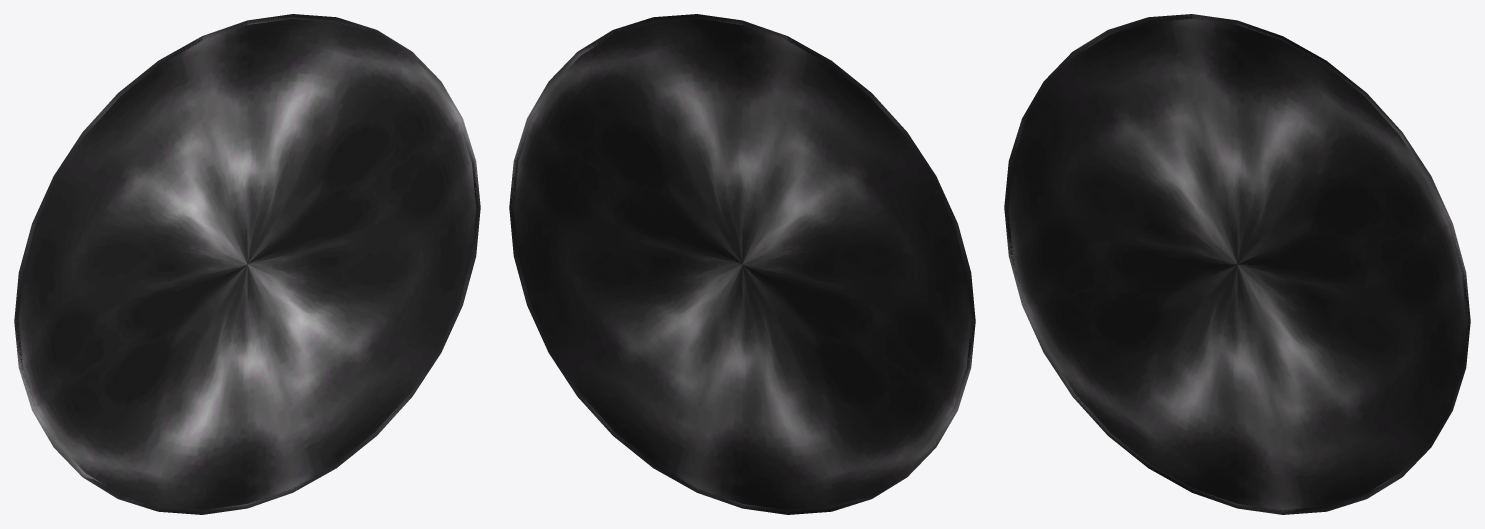
Rendered from fx_cutscene_hard_05_prefab.fbx.
3 views of the same model, side by side, from view 1: azimuth 30°, elevation 25°; view 2: azimuth 150°, elevation 25°; view 3: azimuth 330°, elevation 25° (orthographic).
Visible parts, largest first — view 1: uv2; view 2: uv2; view 3: uv2.
Boxes of the visible parts, x1,y1,x2,y2 form: uv2: (14, 14, 480, 514); uv2: (509, 14, 975, 514); uv2: (1004, 14, 1470, 514).
Size of the model in its own units: 3435 by 3435 by 0.
